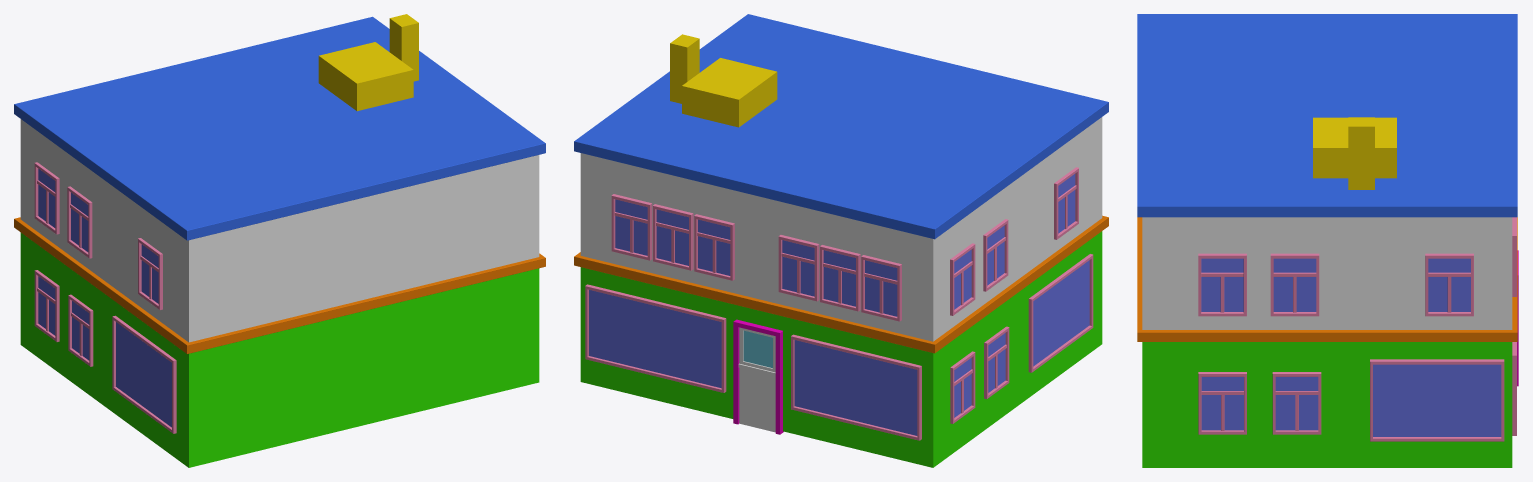
The model's file is house02.fbx.
The picture shows the model from 3 angles, left to right: view 1: azimuth 30°, elevation 25°; view 2: azimuth 150°, elevation 25°; view 3: azimuth 270°, elevation 25°; orthographic projection. The views are drawn at different scales.
Visible parts, largest first — view 1: Cube.036; view 2: Cube.036; view 3: Cube.036.
Part boxes in pixels (x1,y1,x2,y2): Cube.036: [14, 14, 545, 467]; Cube.036: [574, 14, 1108, 467]; Cube.036: [1137, 14, 1518, 467].
Size of the model in its own units: 1037 by 825 by 869.
